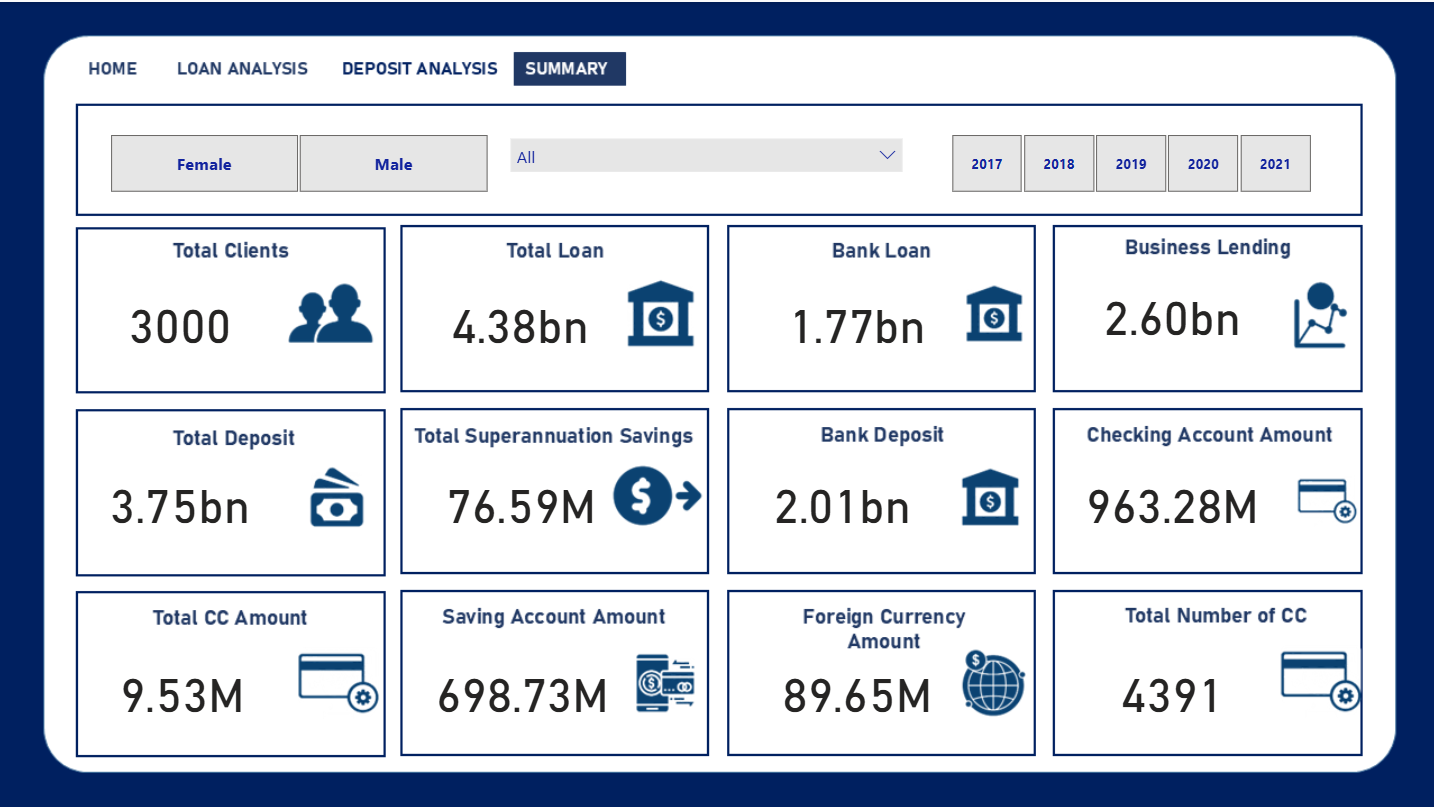

This screenshot's page, from the dashboard's own definition file:
{"tool":"powerbi","page":{"name":"Summary","canvas":[1280,720],"ordinal":3},"visuals":[{"type":"card","fields":{"Values":["CountNonNull(banking-clients.Name)"]},"box":[73.6,248.5,176.1,72.4],"z":0},{"type":"card","fields":{"Values":["banking-clients.Total Loan"]},"box":[376.4,248.5,176.1,72.4],"z":1000},{"type":"card","fields":{"Values":["banking-clients.Total deposit"]},"box":[73.6,408.3,176,72.1],"z":2000},{"type":"card","fields":{"Values":["Sum(banking-clients.Superannuation Savings)"]},"box":[378,415.5,173.1,59.2],"z":3000},{"type":"actionButton","box":[61.5,48.3,78.4,29],"z":4000},{"type":"actionButton","box":[149.6,48.3,136.3,29],"z":5000},{"type":"actionButton","box":[292.9,46.2,152.9,30.3],"z":6000},{"type":"slicer","fields":{"Values":["banking-clients.Year"]},"box":[822.4,111.1,369.3,64.9],"z":7000},{"type":"slicer","fields":{"Values":["banking-clients.GenderId"]},"box":[73.6,111.1,385.2,64.9],"z":8000},{"type":"slicer","fields":{"Values":["banking-clients.IAId"]},"box":[445.8,111.1,369.3,64.9],"z":9000},{"type":"card","fields":{"Values":["Sum(banking-clients.Bank Loans)"]},"box":[690.1,254.6,148.4,59.1],"z":10000},{"type":"card","fields":{"Values":["Sum(banking-clients.Saving Accounts)"]},"box":[379.4,582.9,173.1,59.2],"z":11000},{"type":"card","fields":{"Values":["Sum(banking-clients.Credit Card Balance)"]},"box":[76.5,582.9,173.1,59.2],"z":12000},{"type":"card","fields":{"Values":["Sum(banking-clients.Foreign Currency Account)"]},"box":[678.1,582.9,173.1,59.2],"z":13000},{"type":"card","fields":{"Values":["Sum(banking-clients.Bank Deposits)"]},"box":[665.1,415.5,173.1,59.2],"z":14000},{"type":"card","fields":{"Values":["Sum(banking-clients.Amount of Credit Cards)"]},"box":[958,582.9,173.1,59.2],"z":15000},{"type":"card","fields":{"Values":["Sum(banking-clients.Checking Accounts)"]},"box":[958,415.5,173.1,59.2],"z":16000},{"type":"card","fields":{"Values":["Sum(banking-clients.Business Lending)"]},"box":[958,248.2,173.1,59.2],"z":17000}]}

Visuals, with their boxes in screenshot pixels (x1, y1, x2, y2), scaled from the page's 1280x720 canvas onto the 1434x807 screenshot:
card - CountNonNull(banking-clients.Name): bbox=(82, 279, 280, 360)
card - banking-clients.Total Loan: bbox=(422, 279, 619, 360)
card - banking-clients.Total deposit: bbox=(82, 458, 280, 538)
card - Sum(banking-clients.Superannuation Savings): bbox=(423, 466, 617, 532)
actionButton: bbox=(69, 54, 157, 87)
actionButton: bbox=(168, 54, 320, 87)
actionButton: bbox=(328, 52, 499, 86)
slicer - banking-clients.Year: bbox=(921, 125, 1335, 197)
slicer - banking-clients.GenderId: bbox=(82, 125, 514, 197)
slicer - banking-clients.IAId: bbox=(499, 125, 913, 197)
card - Sum(banking-clients.Bank Loans): bbox=(773, 285, 939, 352)
card - Sum(banking-clients.Saving Accounts): bbox=(425, 653, 619, 720)
card - Sum(banking-clients.Credit Card Balance): bbox=(86, 653, 280, 720)
card - Sum(banking-clients.Foreign Currency Account): bbox=(760, 653, 954, 720)
card - Sum(banking-clients.Bank Deposits): bbox=(745, 466, 939, 532)
card - Sum(banking-clients.Amount of Credit Cards): bbox=(1073, 653, 1267, 720)
card - Sum(banking-clients.Checking Accounts): bbox=(1073, 466, 1267, 532)
card - Sum(banking-clients.Business Lending): bbox=(1073, 278, 1267, 345)
